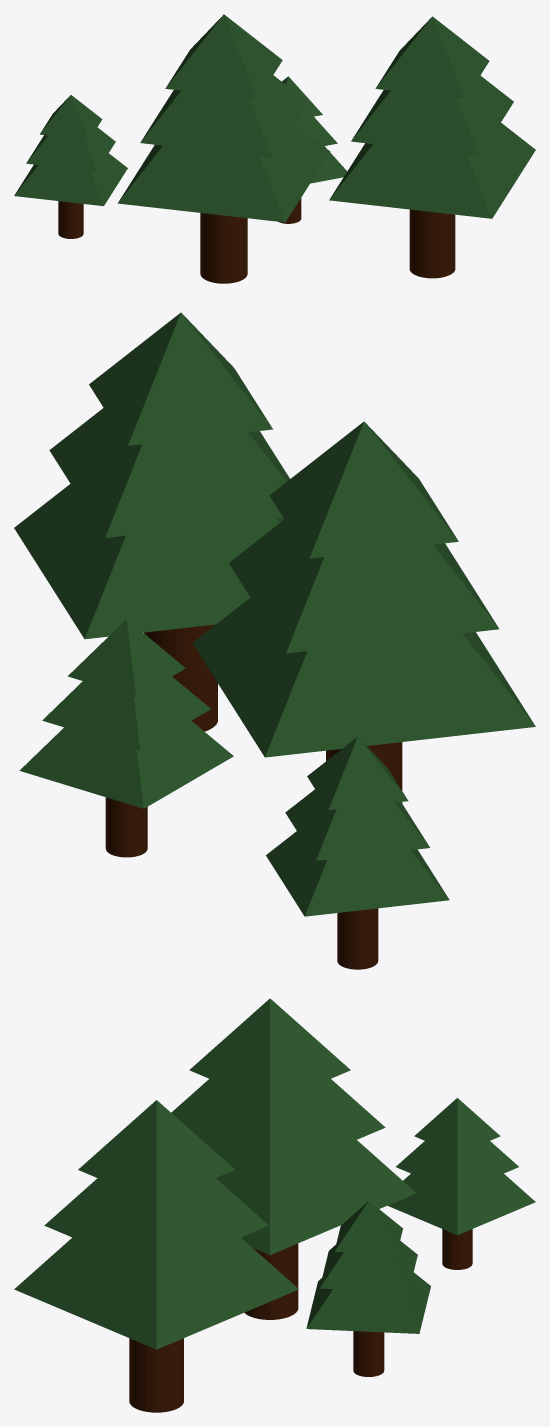
The model's file is TreesCombinedV2.fbx.
3 views of the same model, one above another, from view 1: azimuth 30°, elevation 25°; view 2: azimuth 150°, elevation 25°; view 3: azimuth 270°, elevation 25° (orthographic). The views are drawn at different scales.
Visible parts, largest first — view 1: Bot Branches.003; view 2: Bot Branches.003; view 3: Bot Branches.003.
Part boxes in pixels (x1,y1,x2,y2): Bot Branches.003: (14,14,535,283); Bot Branches.003: (14,312,535,969); Bot Branches.003: (14,998,535,1412).
Size of the model in its own units: 9.45 by 5.94 by 9.04.
